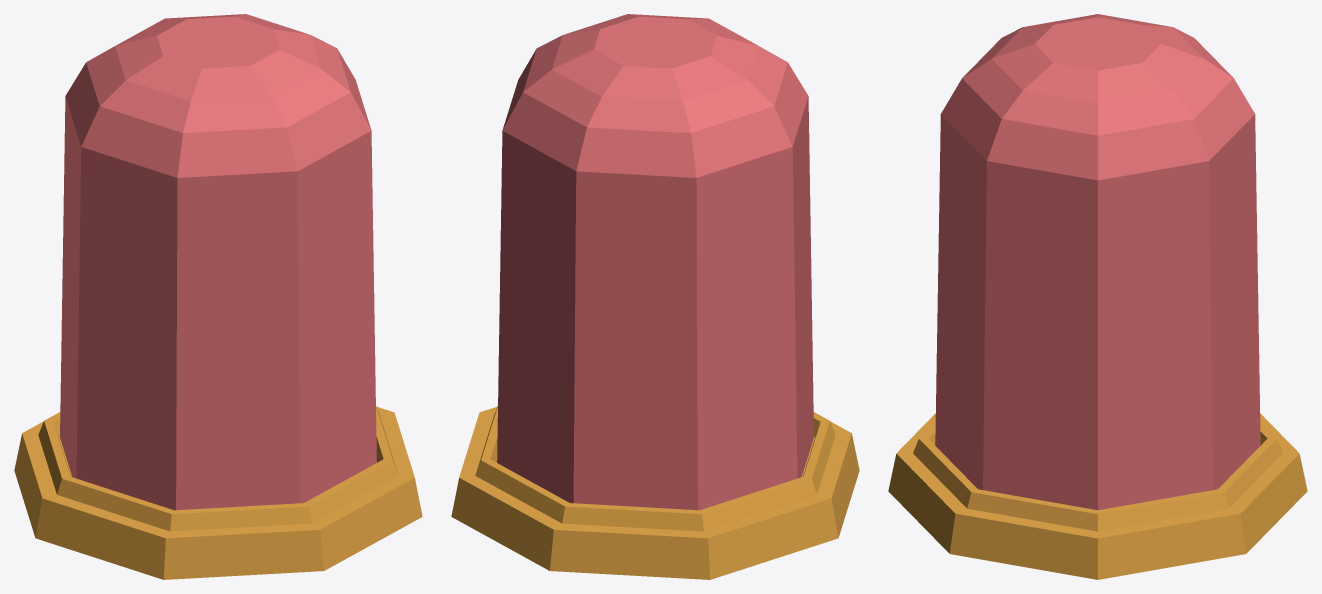
The model's file is SM_Display_Glass_Empty.fbx.
The picture shows the model from 3 angles, left to right: view 1: azimuth 30°, elevation 25°; view 2: azimuth 150°, elevation 25°; view 3: azimuth 270°, elevation 25°; orthographic projection.
Parts seen in each view (by area): view 1: display-glass-empty; view 2: display-glass-empty; view 3: display-glass-empty.
Boxes of the visible parts, bbox=[...] form: display-glass-empty: bbox=[14, 14, 422, 579]; display-glass-empty: bbox=[451, 14, 859, 579]; display-glass-empty: bbox=[888, 14, 1307, 579].
Bounding box in the file's own units: 0.3 × 0.3533 × 0.3.
